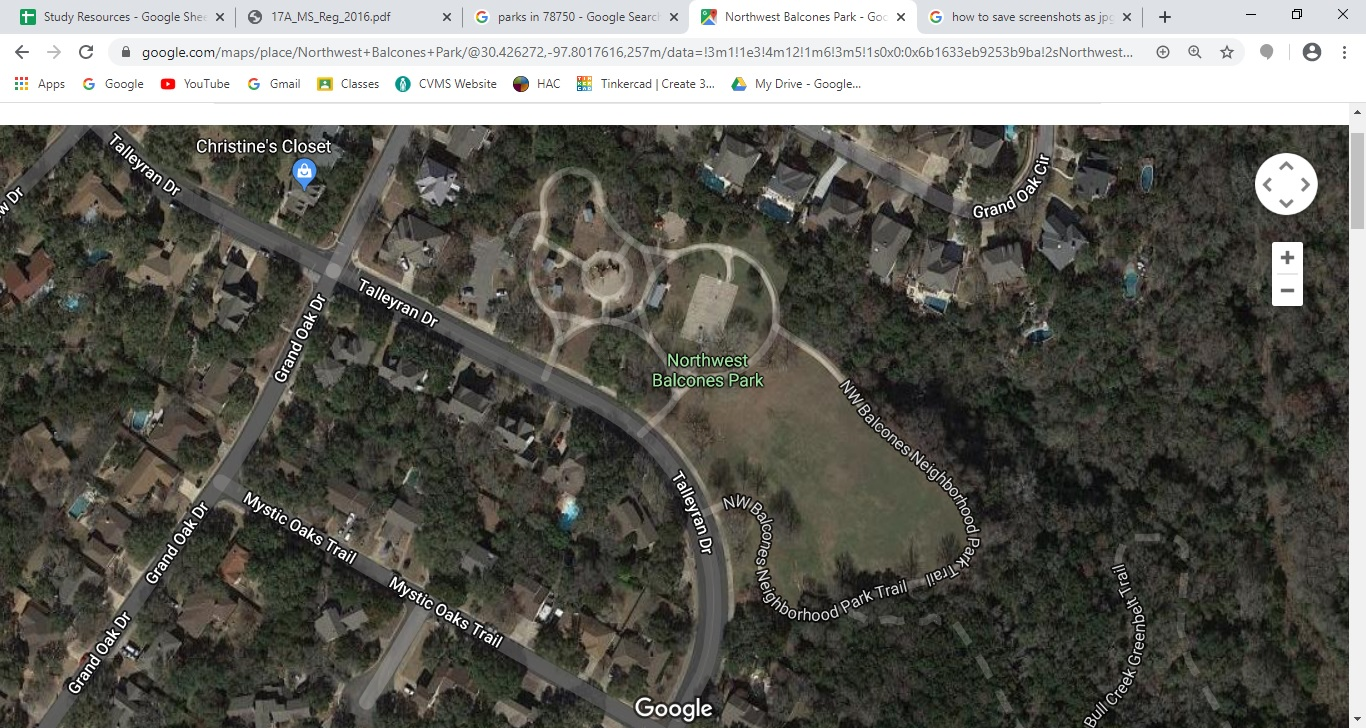soccer: (767, 394, 935, 560)
